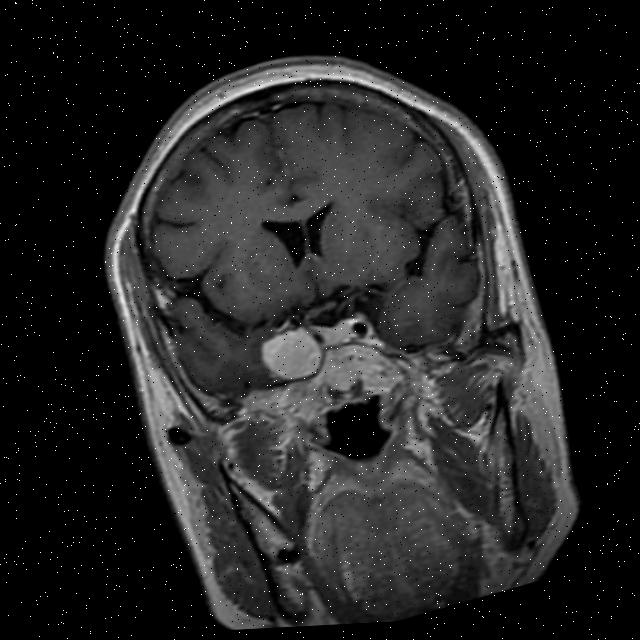Meningioma: (254, 322, 328, 387)
Pituitary: (316, 313, 361, 349)
